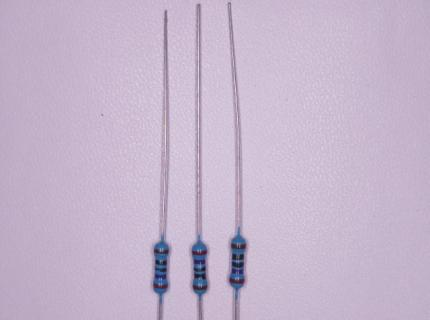Black band: (232, 253, 244, 260), (232, 262, 244, 268), (194, 273, 206, 279), (155, 259, 167, 265), (194, 266, 206, 271), (155, 267, 166, 272)
Brown band: (193, 284, 208, 290), (231, 243, 246, 249), (154, 249, 168, 253)
Red band: (153, 283, 168, 288), (230, 278, 245, 283), (192, 250, 206, 255)
Violet band: (155, 273, 167, 279), (232, 268, 244, 274), (194, 259, 206, 264)
